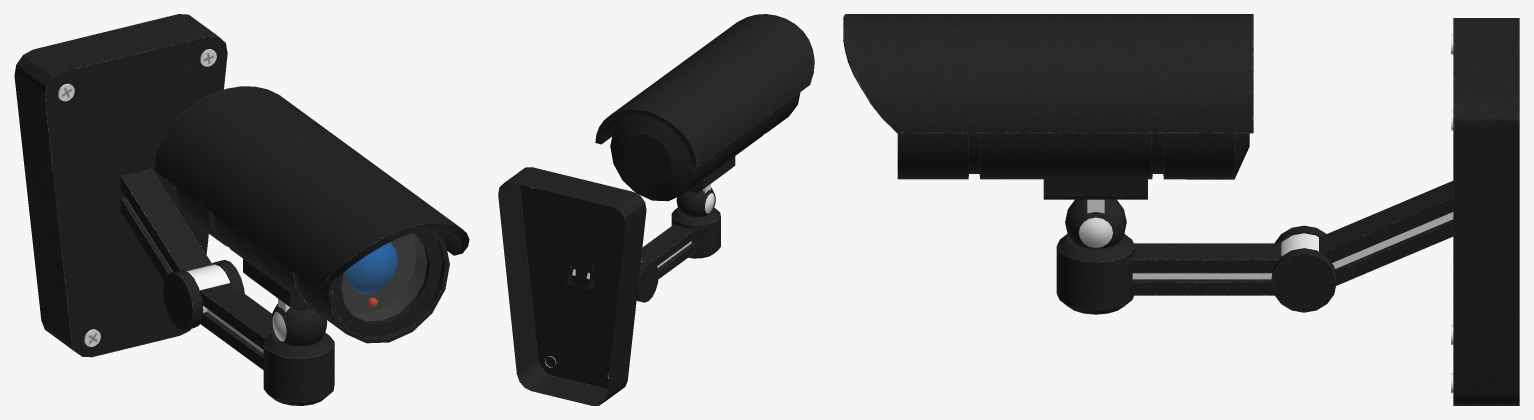
File: Security_Camera.fbx
3 renders of one model, left to right at view 1: azimuth 30°, elevation 25°; view 2: azimuth 150°, elevation 25°; view 3: azimuth 270°, elevation 25°, orthographic. The views are drawn at different scales.
Parts seen in each view (by area): view 1: Back, Camera, Arm1, pCylinder16; view 2: Back, Camera, Arm1; view 3: Camera, Back, Arm1.
Part boxes in pixels (box(x1,y1,x2,y2)): Back: box(14, 14, 227, 357); Camera: box(154, 86, 469, 345); Arm1: box(163, 260, 334, 405); pCylinder16: box(342, 234, 426, 320); Back: box(498, 167, 646, 405); Camera: box(595, 14, 814, 216); Arm1: box(636, 207, 720, 302); Camera: box(843, 14, 1253, 248); Back: box(1319, 18, 1519, 405); Arm1: box(1056, 225, 1336, 314).
Size of the model in its own units: 5.89 by 9.98 by 17.19.
Materials: 2 (1 with a texture image).
